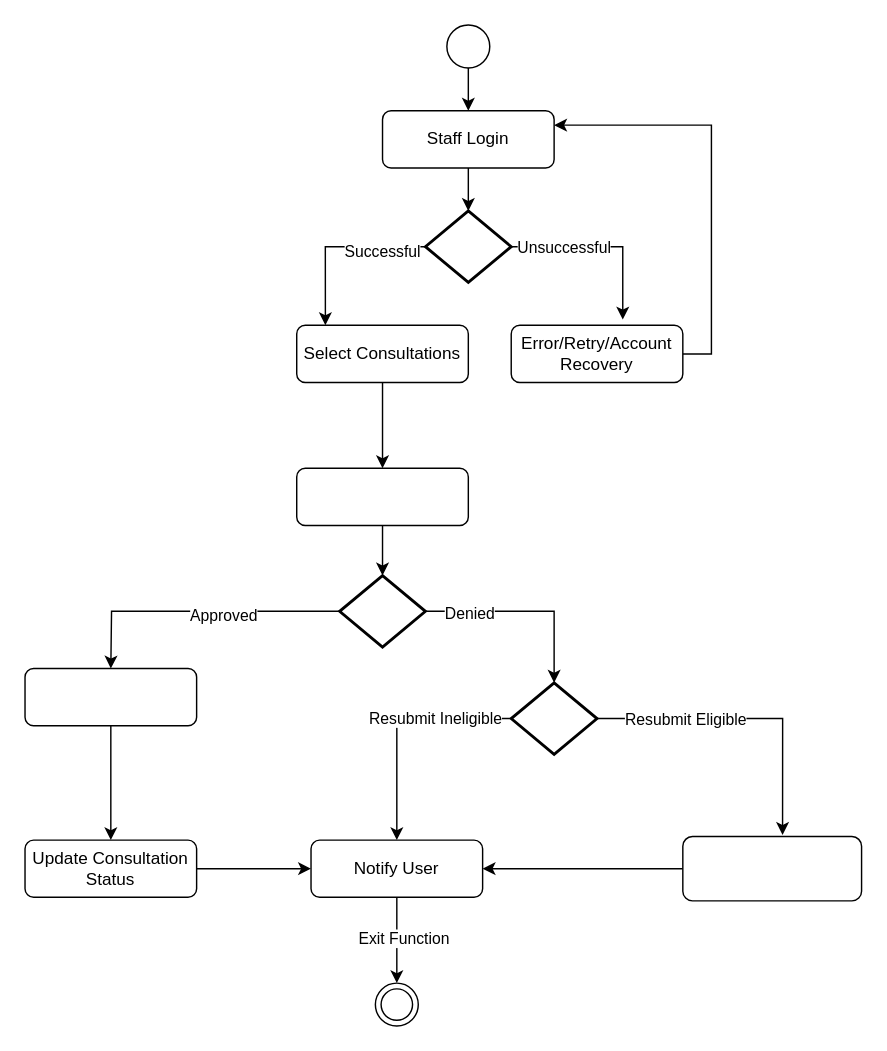
This 887x1051 diagram has some shape labels left out. The shapes that lost their labels are listed below. From the top down, each one's box as (x1, y1, x2, y2) in pixels, then its label:
(295, 467, 468, 526): Review Consultation
(24, 667, 197, 726): Schedule Consultation
(681, 835, 862, 901): Request changes and resubmit
